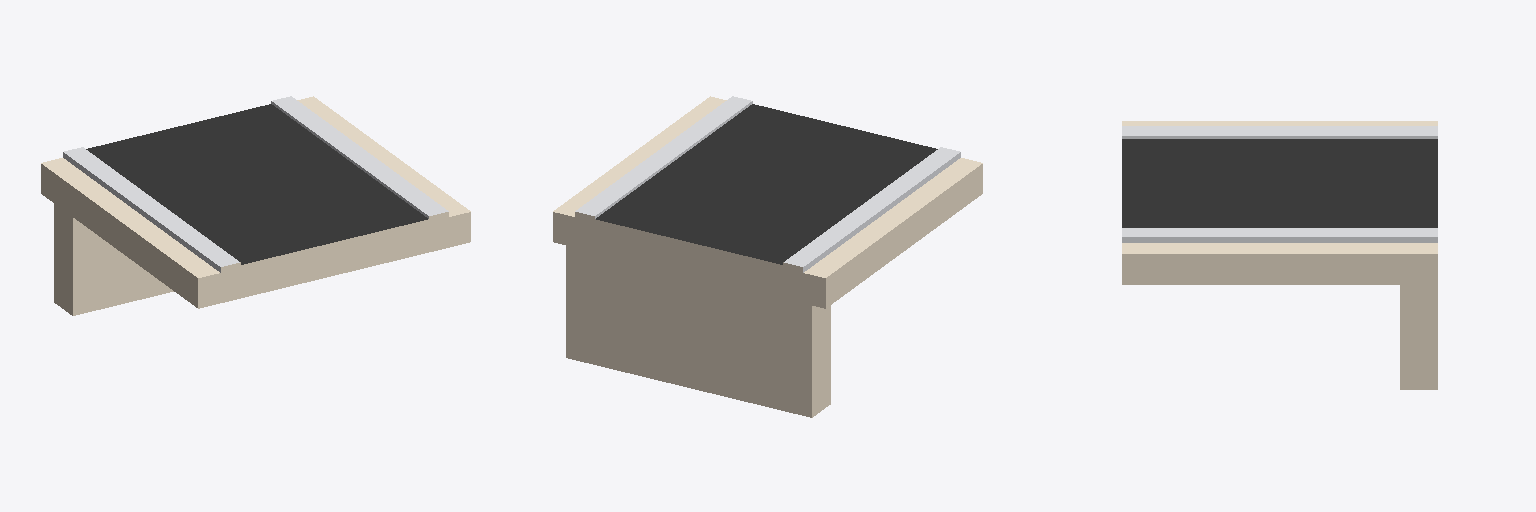
Rendered from roadStraightBridgeStart.obj.
3 renders of one model, left to right at view 1: azimuth 30°, elevation 25°; view 2: azimuth 150°, elevation 25°; view 3: azimuth 270°, elevation 25°, orthographic.
Parts seen in each view (by area): view 1: roadStraightBridgeStart; view 2: roadStraightBridgeStart; view 3: roadStraightBridgeStart.
Part boxes in pixels (x1,y1,x2,y2): roadStraightBridgeStart: (41, 96, 470, 315); roadStraightBridgeStart: (553, 96, 982, 417); roadStraightBridgeStart: (1122, 121, 1437, 389).
Size of the model in its own units: 1 by 0.52 by 1.